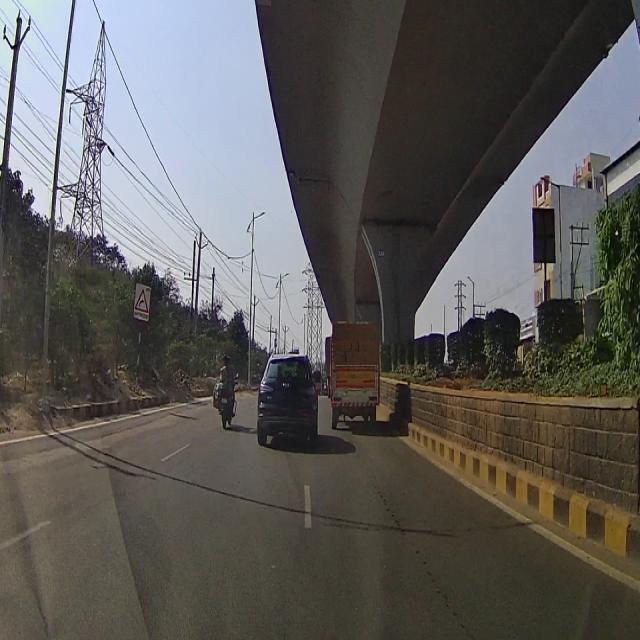right-hand-curve: (130, 281, 152, 320)
